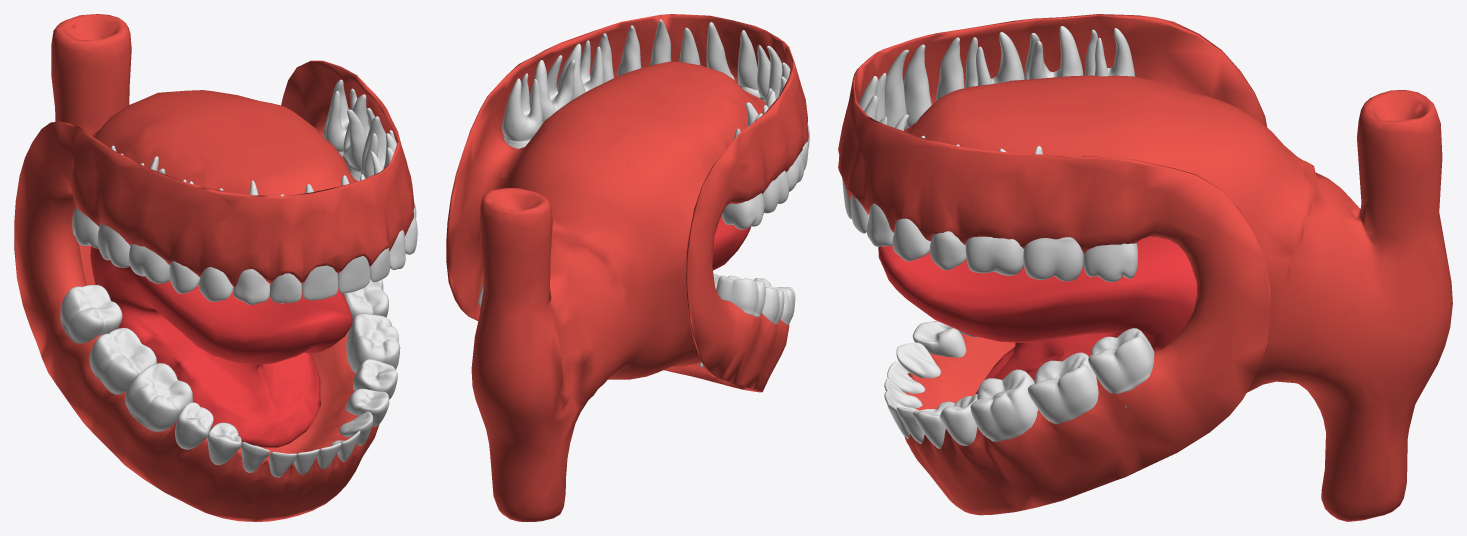
Rendered from typodont.glb.
3 views of the same model, side by side, from view 1: azimuth 30°, elevation 25°; view 2: azimuth 150°, elevation 25°; view 3: azimuth 270°, elevation 25° (orthographic). The views are drawn at different scales.
Parts seen in each view (by area): view 1: GUM, TONGUE, teeth_36, teeth_37, teeth_38, teeth_46, teeth_27, teeth_35, teeth_28, teeth_45, teeth_47, teeth_16 (+16 smaller); view 2: GUM, teeth_28, teeth_27, teeth_38, teeth_26, TONGUE, teeth_18, teeth_11, teeth_17, teeth_21, teeth_24, teeth_23 (+7 smaller); view 3: GUM, TONGUE, teeth_47, teeth_46, teeth_48, teeth_27, teeth_26, teeth_16, teeth_28, teeth_17, teeth_18, teeth_14 (+9 smaller).
Part boxes in pixels (left/top/right/bottom): GUM: left=14, top=14, right=414, bottom=521; TONGUE: left=90, top=246, right=352, bottom=447; teeth_36: left=125, top=363, right=192, bottom=431; teeth_37: left=89, top=327, right=156, bottom=394; teeth_38: left=60, top=285, right=122, bottom=343; teeth_46: left=346, top=313, right=400, bottom=373; teeth_27: left=342, top=94, right=374, bottom=181; teeth_35: left=175, top=402, right=213, bottom=449; teeth_28: left=323, top=79, right=357, bottom=156; teeth_45: left=353, top=359, right=397, bottom=399; teeth_47: left=343, top=279, right=388, bottom=320; teeth_16: left=128, top=168, right=186, bottom=283; GUM: left=446, top=14, right=808, bottom=521; teeth_28: left=502, top=73, right=542, bottom=148; teeth_27: left=529, top=55, right=575, bottom=123; teeth_38: left=716, top=275, right=765, bottom=316; teeth_26: left=557, top=40, right=603, bottom=99; TONGUE: left=712, top=215, right=750, bottom=270; teeth_18: left=721, top=128, right=764, bottom=229; teeth_11: left=737, top=30, right=760, bottom=97; teeth_17: left=746, top=102, right=788, bottom=213; teeth_21: left=706, top=22, right=734, bottom=80; teeth_24: left=617, top=25, right=641, bottom=76; teeth_23: left=649, top=19, right=671, bottom=65; GUM: left=838, top=14, right=1452, bottom=521; TONGUE: left=878, top=236, right=1197, bottom=393; teeth_47: left=1027, top=352, right=1098, bottom=424; teeth_46: left=970, top=369, right=1037, bottom=441; teeth_48: left=1088, top=328, right=1154, bottom=407; teeth_27: left=1023, top=146, right=1083, bottom=281; teeth_26: left=965, top=148, right=1023, bottom=275; teeth_16: left=965, top=32, right=1024, bottom=87; teeth_28: left=1083, top=243, right=1137, bottom=282; teeth_17: left=1024, top=26, right=1083, bottom=79; teeth_18: left=1085, top=28, right=1135, bottom=76; teeth_14: left=903, top=44, right=931, bottom=128.
Size of the model in its own units: 10.79 by 13.33 by 17.36.
